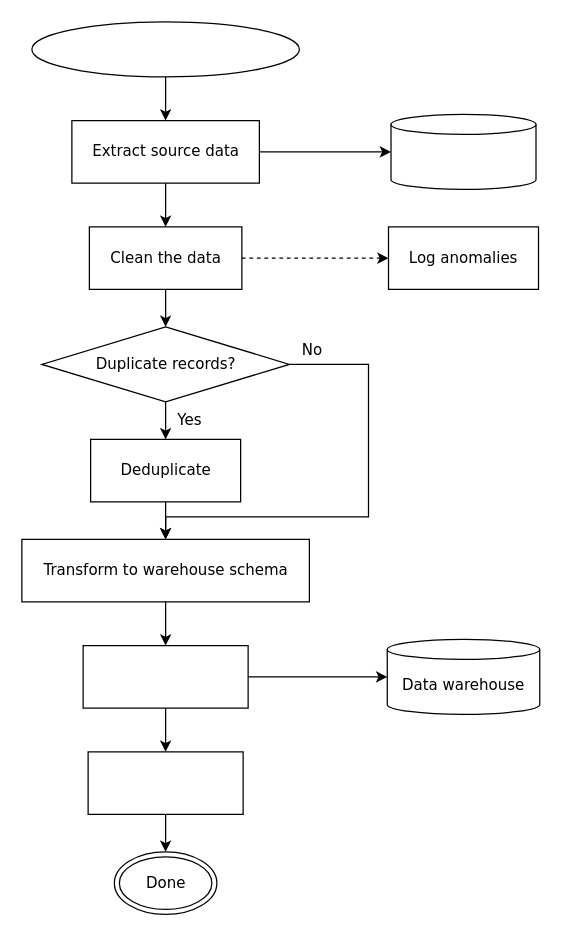
The diagram is 563 pixels wide and 936 high, and some of its shapes have lost their labels. Here are the shapes that lost their labels. From the top down, the box of each, then its label:
(31, 21, 299, 77): Scheduled run at 2am
(390, 113, 536, 189): Sales database
(82, 644, 248, 708): Load warehouse
(87, 751, 243, 814): Update reports
